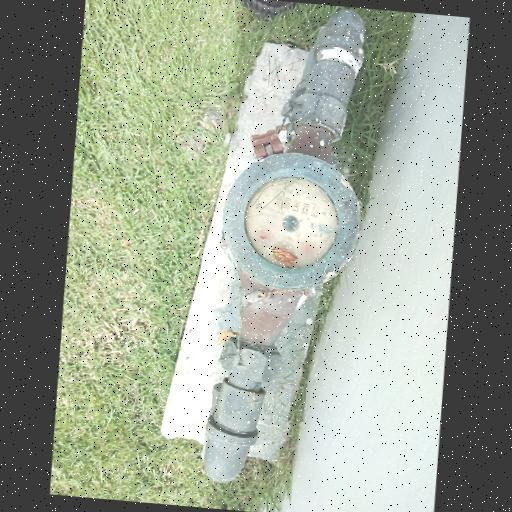0: (281, 195, 293, 210), (310, 204, 321, 219)
1: (271, 192, 283, 207)
4: (290, 198, 301, 212)
6: (301, 202, 312, 217)
border_water_meter_number: (270, 192, 321, 218)
